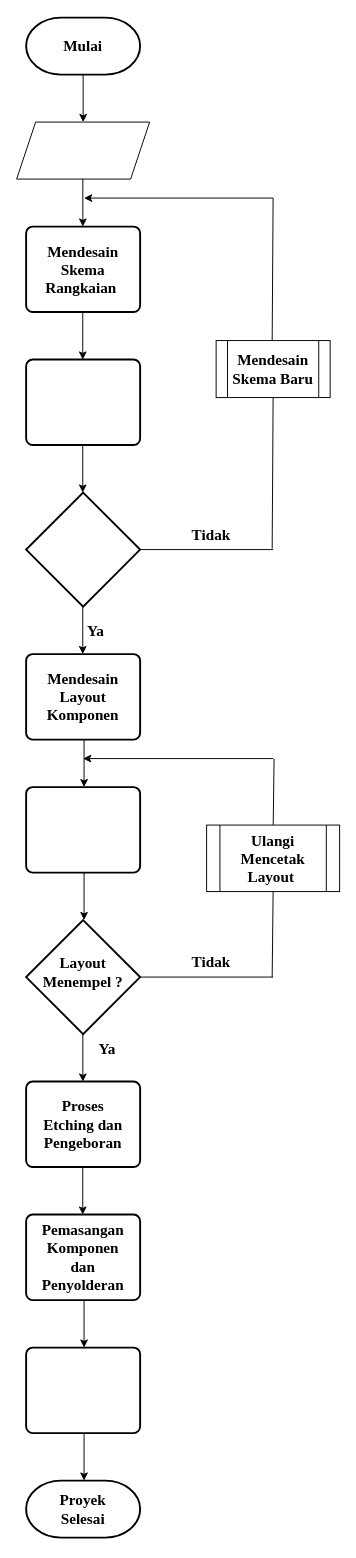
The diagram is 356 pixels wide and 1558 high, and some of its shapes have lost their labels. Here are the shapes that lost their labels. From the top down, the centre of each, then its label:
At [83,150]: "Mencari Referensi".
At [83,402]: "Pengetesan Skema Yang Dibuat".
At [83,549]: "Skema Berhasil ?".
At [83,829]: "Mencetak Layout Ke PCB".
At [83,1390]: "Pengetesan Akhir".
